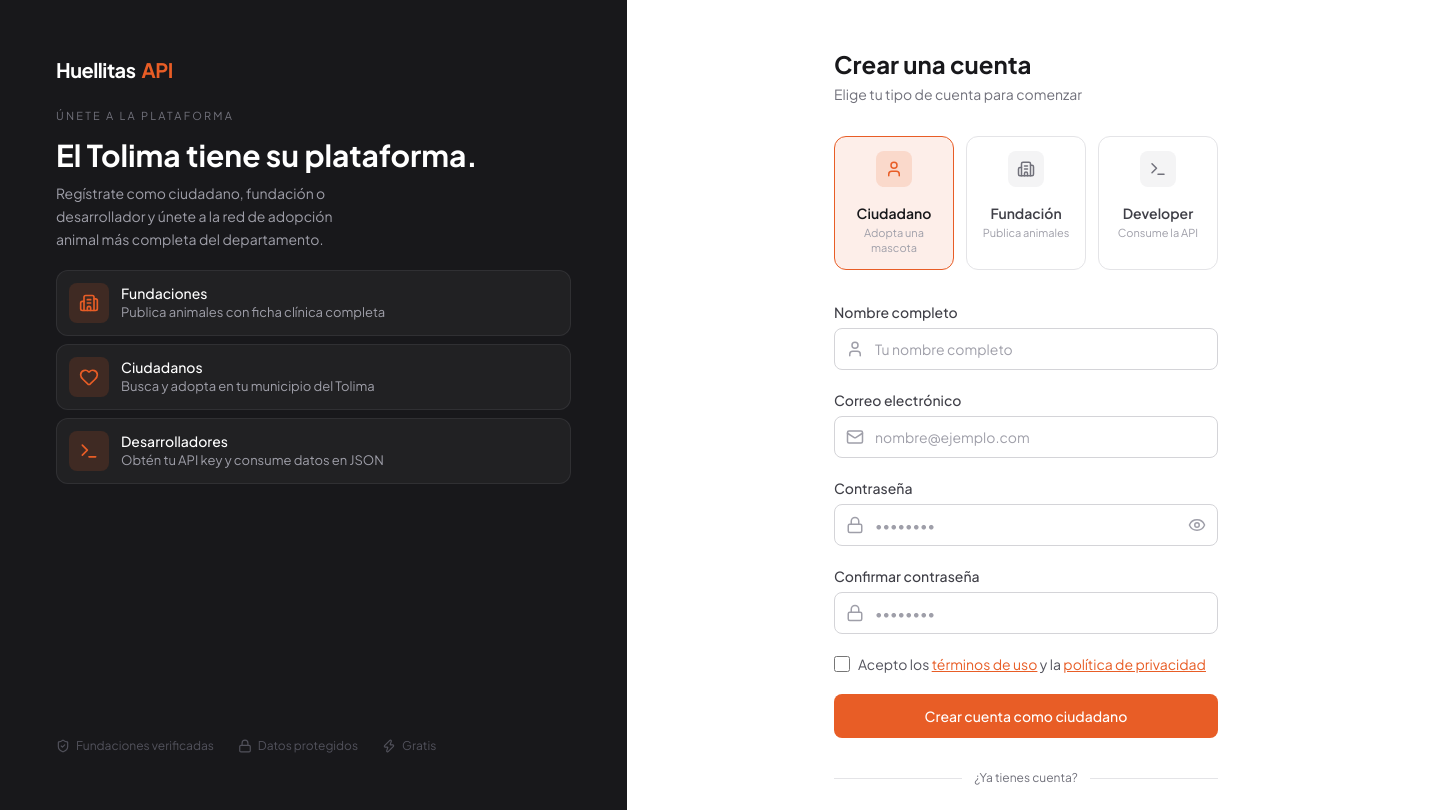
Test case: RegisterPage › shows strong password strength
In the password field labelled "Contraseña": (1026, 525) [834,504,1218,546], type "MyStr0ng!Pass"
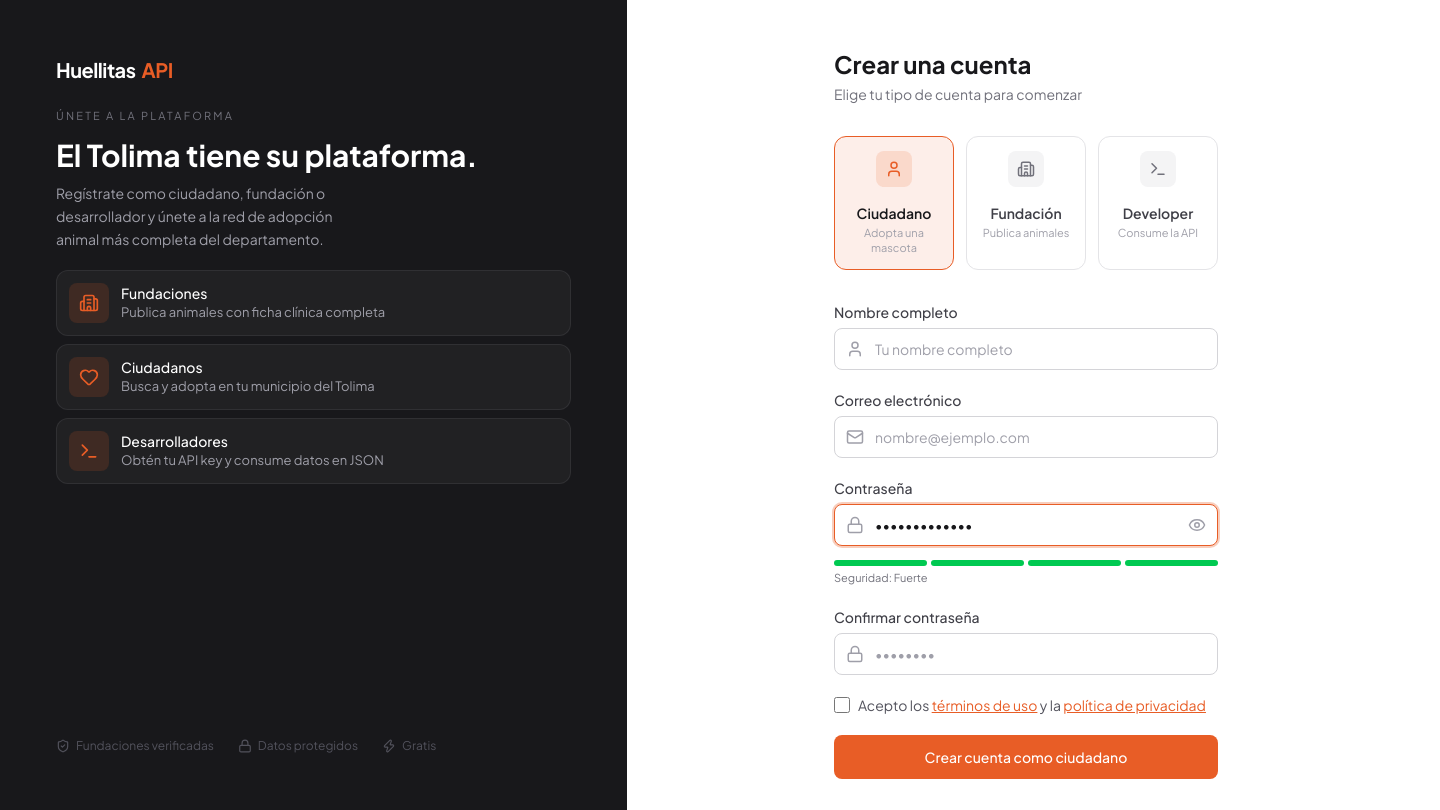
Now the text "Seguridad: Fuerte" is shown, box [834,571,928,584]
